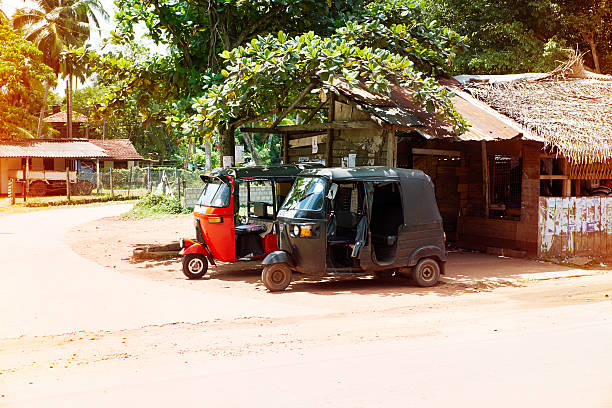threewheel: (259, 165, 446, 292), (178, 164, 299, 279)
